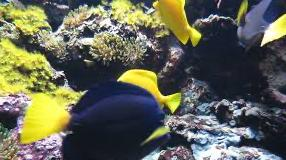Acanthuridae -Surgeonfishes-: (19, 84, 171, 160)
